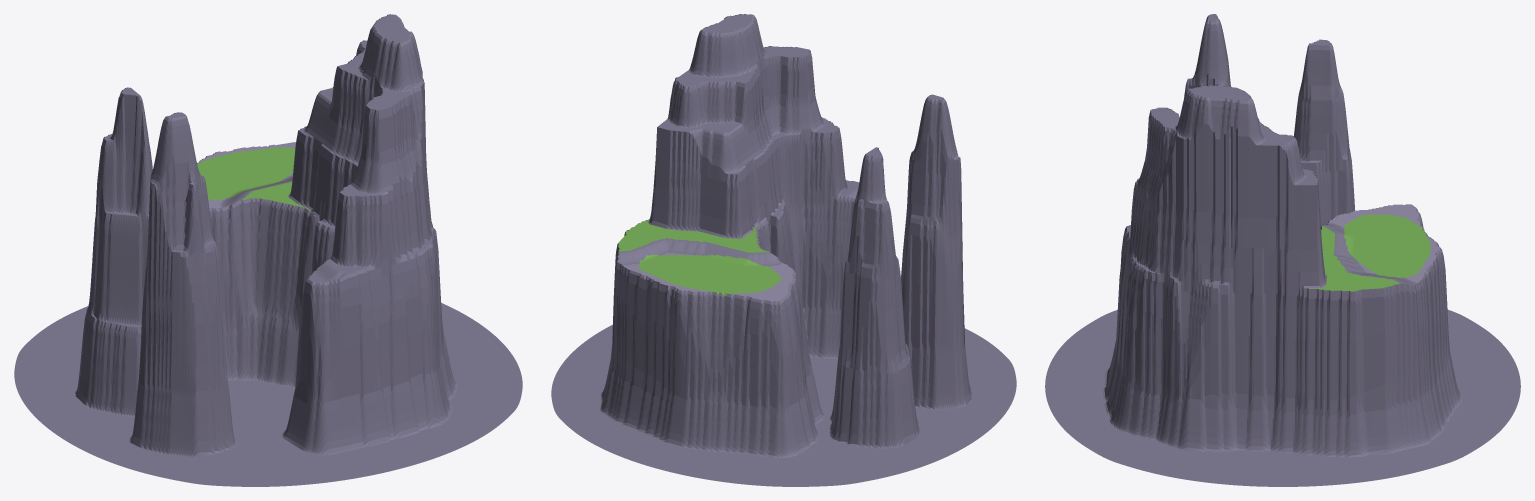
File: islands2.fbx
3 views of the same model, side by side, from view 1: azimuth 30°, elevation 25°; view 2: azimuth 150°, elevation 25°; view 3: azimuth 270°, elevation 25° (orthographic). The views are drawn at different scales.
Parts seen in each view (by area): view 1: islands2_rework; view 2: islands2_rework; view 3: islands2_rework.
Boxes of the visible parts, box(x1,y1,x2,y2) form: islands2_rework: box(14, 14, 522, 486); islands2_rework: box(551, 14, 1016, 486); islands2_rework: box(1045, 14, 1520, 486).
Size of the model in its own units: 6408 by 4997 by 6408.
